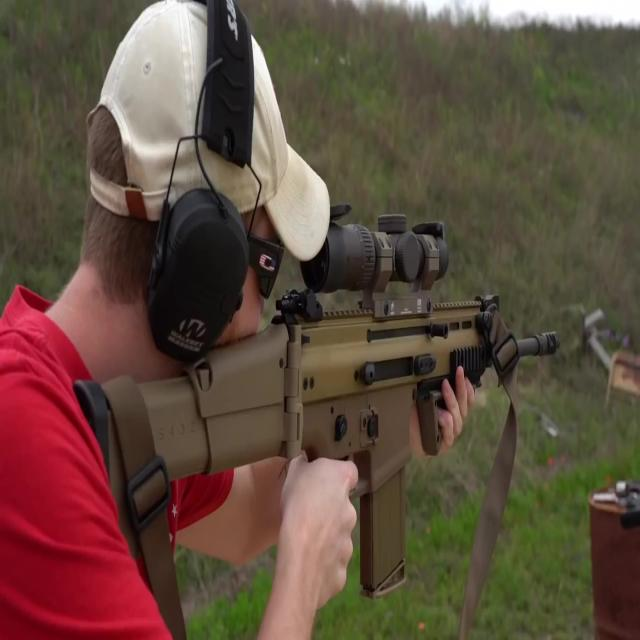Weapon: (21, 197, 610, 622)
